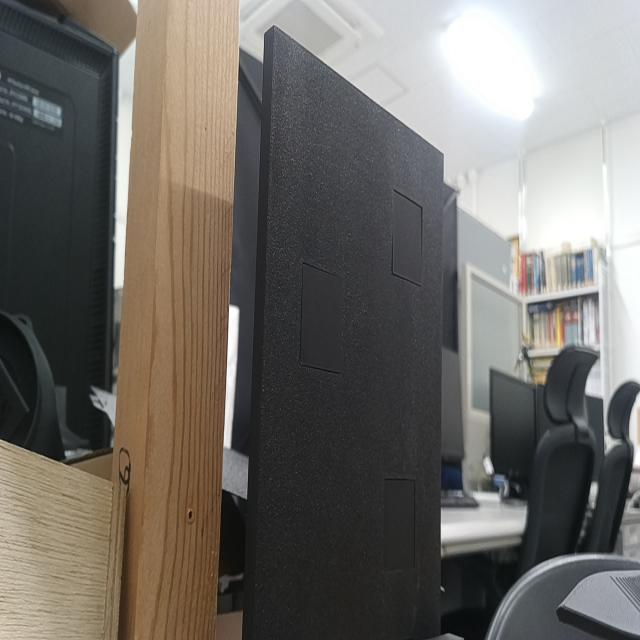Wall: (256, 26, 445, 639)
